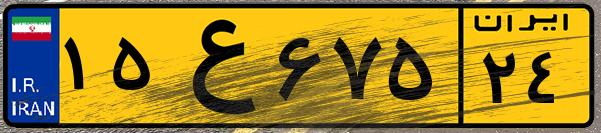1: (57, 26, 110, 100)
2: (475, 38, 525, 113)
4: (525, 38, 570, 115)
5: (385, 28, 445, 110), (110, 28, 158, 98)
6: (270, 28, 330, 110)
7: (330, 28, 385, 110)
ع: (158, 12, 270, 120)
